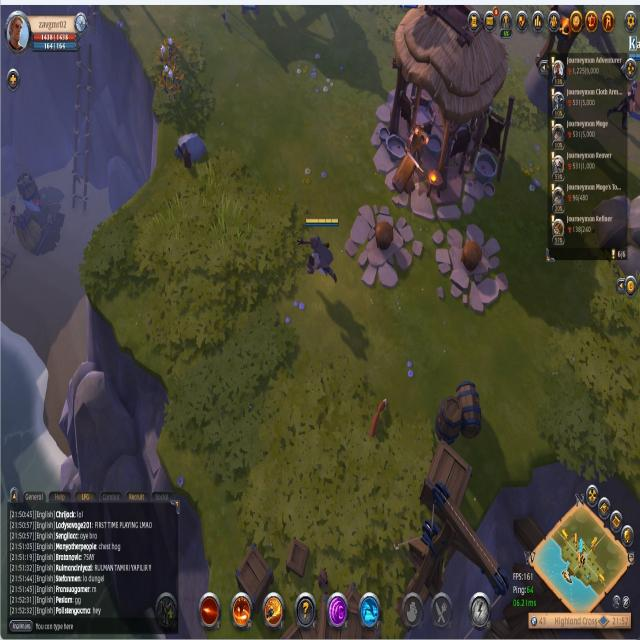stone: (173, 128, 209, 174)
